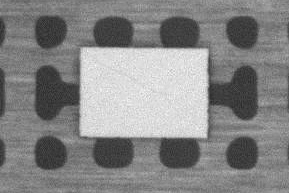DIE_CRACK: (83, 49, 168, 100)
